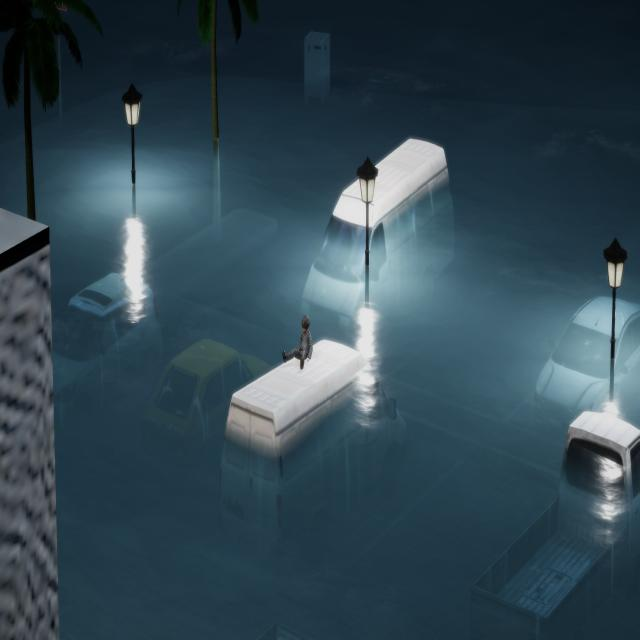Human: (278, 311, 316, 376)
